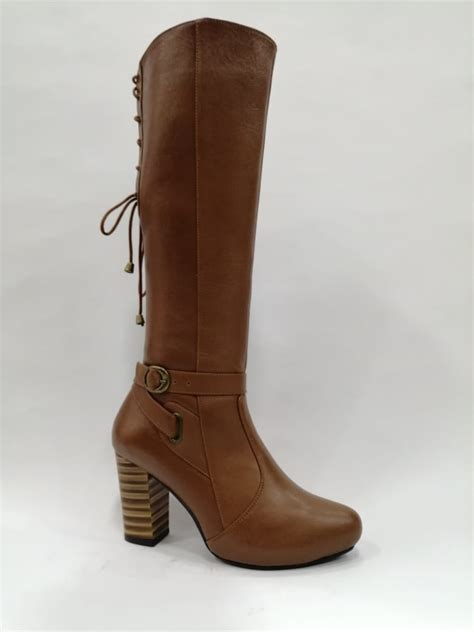cuero: (114, 16, 363, 569)
